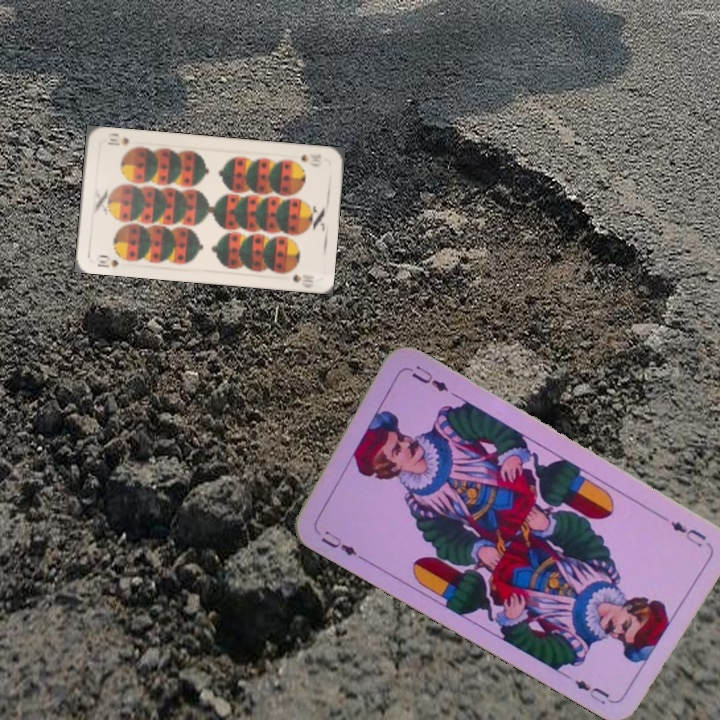EU: (317, 526, 366, 562), (666, 516, 709, 550)
S10: (92, 251, 122, 270), (297, 149, 325, 164)
